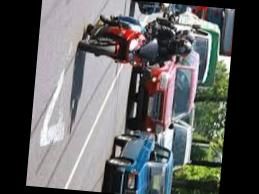bus_line: (25, 0, 155, 189)
